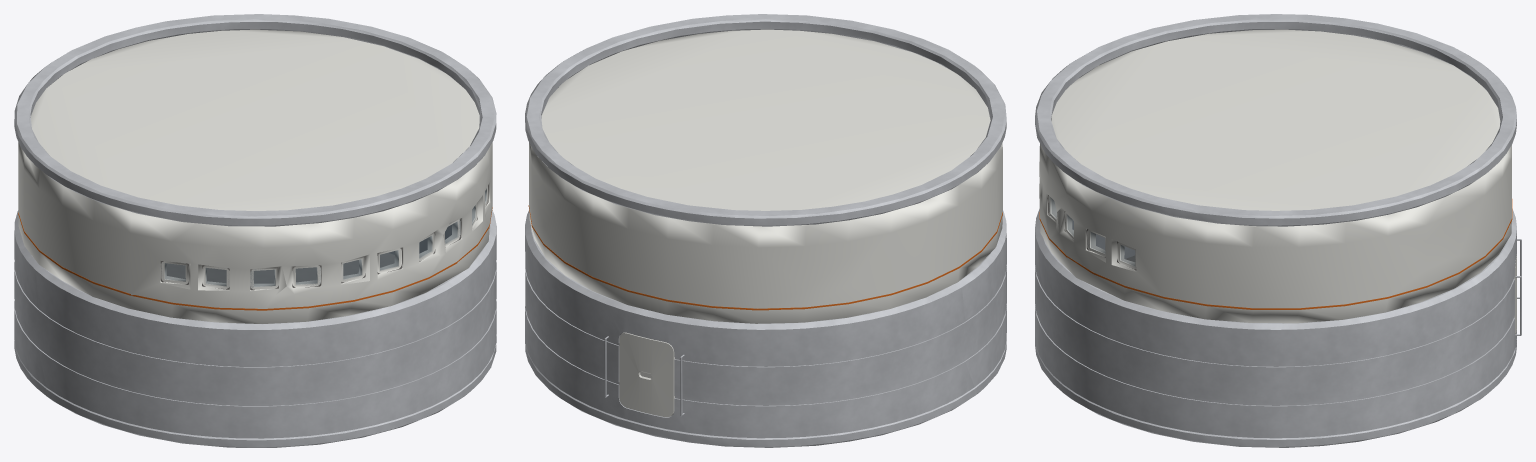
File: ax_cmd_07_command_deck.glb
The picture shows the model from 3 angles, left to right: view 1: azimuth 30°, elevation 25°; view 2: azimuth 150°, elevation 25°; view 3: azimuth 270°, elevation 25°; orthographic projection.
Parts seen in each view (by area): view 1: window_band, stainless_barrel, interface_rings, window_glass, bulkheads, orange_stripes; view 2: window_band, stainless_barrel, interface_rings, hatch_door_1, orange_stripes; view 3: window_band, stainless_barrel, interface_rings, orange_stripes, window_glass.
Boxes of the visible parts, x1,y1,x2,y2 form: window_band: [18, 29, 492, 323]; stainless_barrel: [14, 210, 496, 438]; interface_rings: [14, 14, 496, 447]; window_glass: [165, 189, 486, 287]; bulkheads: [166, 253, 394, 283]; orange_stripes: [18, 207, 492, 310]; window_band: [529, 29, 1002, 323]; stainless_barrel: [525, 210, 1006, 438]; interface_rings: [525, 14, 1006, 447]; hatch_door_1: [619, 332, 674, 417]; orange_stripes: [528, 205, 1002, 310]; window_band: [1039, 29, 1511, 323]; stainless_barrel: [1035, 208, 1516, 438]; interface_rings: [1035, 14, 1516, 447]; orange_stripes: [1039, 199, 1512, 309]; window_glass: [1049, 196, 1135, 266].
Bounding box in the file's own units: 7.5 × 3.98 × 7.58.
Materials: 5 (2 with a texture image).
